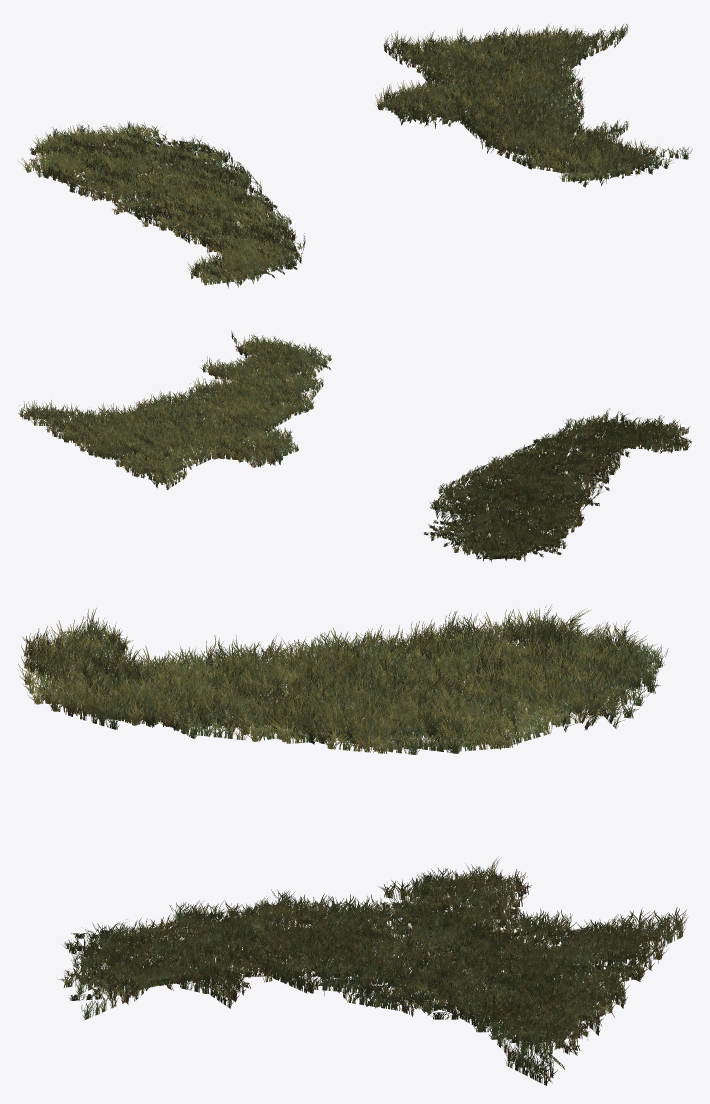
The model's file is grass.glb.
3 renders of one model, top to bottom at view 1: azimuth 30°, elevation 25°; view 2: azimuth 150°, elevation 25°; view 3: azimuth 270°, elevation 25°, orthographic. The views are drawn at different scales.
Visible parts, largest first — view 1: no part large enough to name; view 2: no part large enough to name; view 3: Plane|Plate1.003|Dupli|990.0.0.0.0.0.0.0.0.0_Plate1_0.002, Plane|Plate1.002|Dupli|377.0.0.0.0.0.0.0.0.0_Plate1_0.002.
Part boxes in pixels (bbox=[...]): Plane|Plate1.003|Dupli|990.0.0.0.0.0.0.0.0.0_Plate1_0.002: bbox=[567, 685, 638, 718]; Plane|Plate1.002|Dupli|377.0.0.0.0.0.0.0.0.0_Plate1_0.002: bbox=[322, 724, 393, 753].
Bounding box in the file's own units: 26.9 × 1.06 × 16.44.
6 materials, 6 textured.
